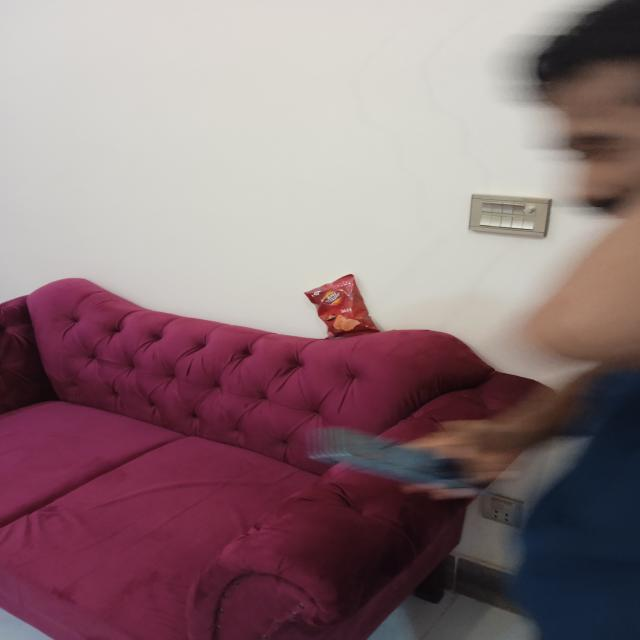Plastic: (306, 266, 384, 338)
